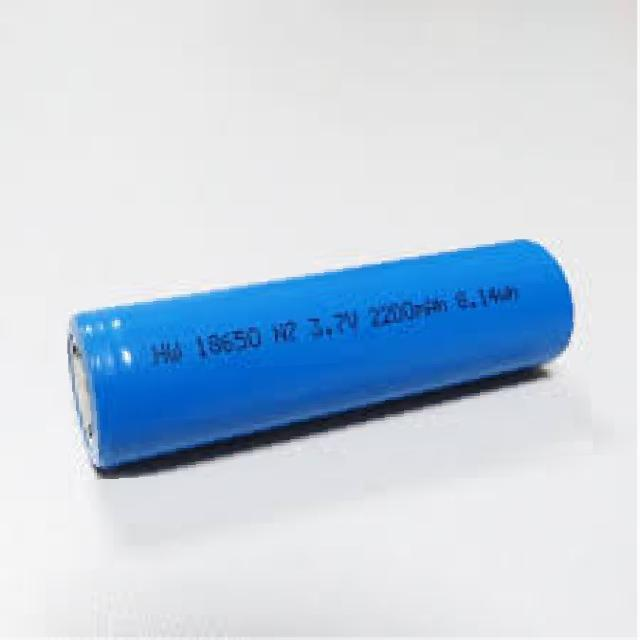Battery: (48, 232, 605, 474)
